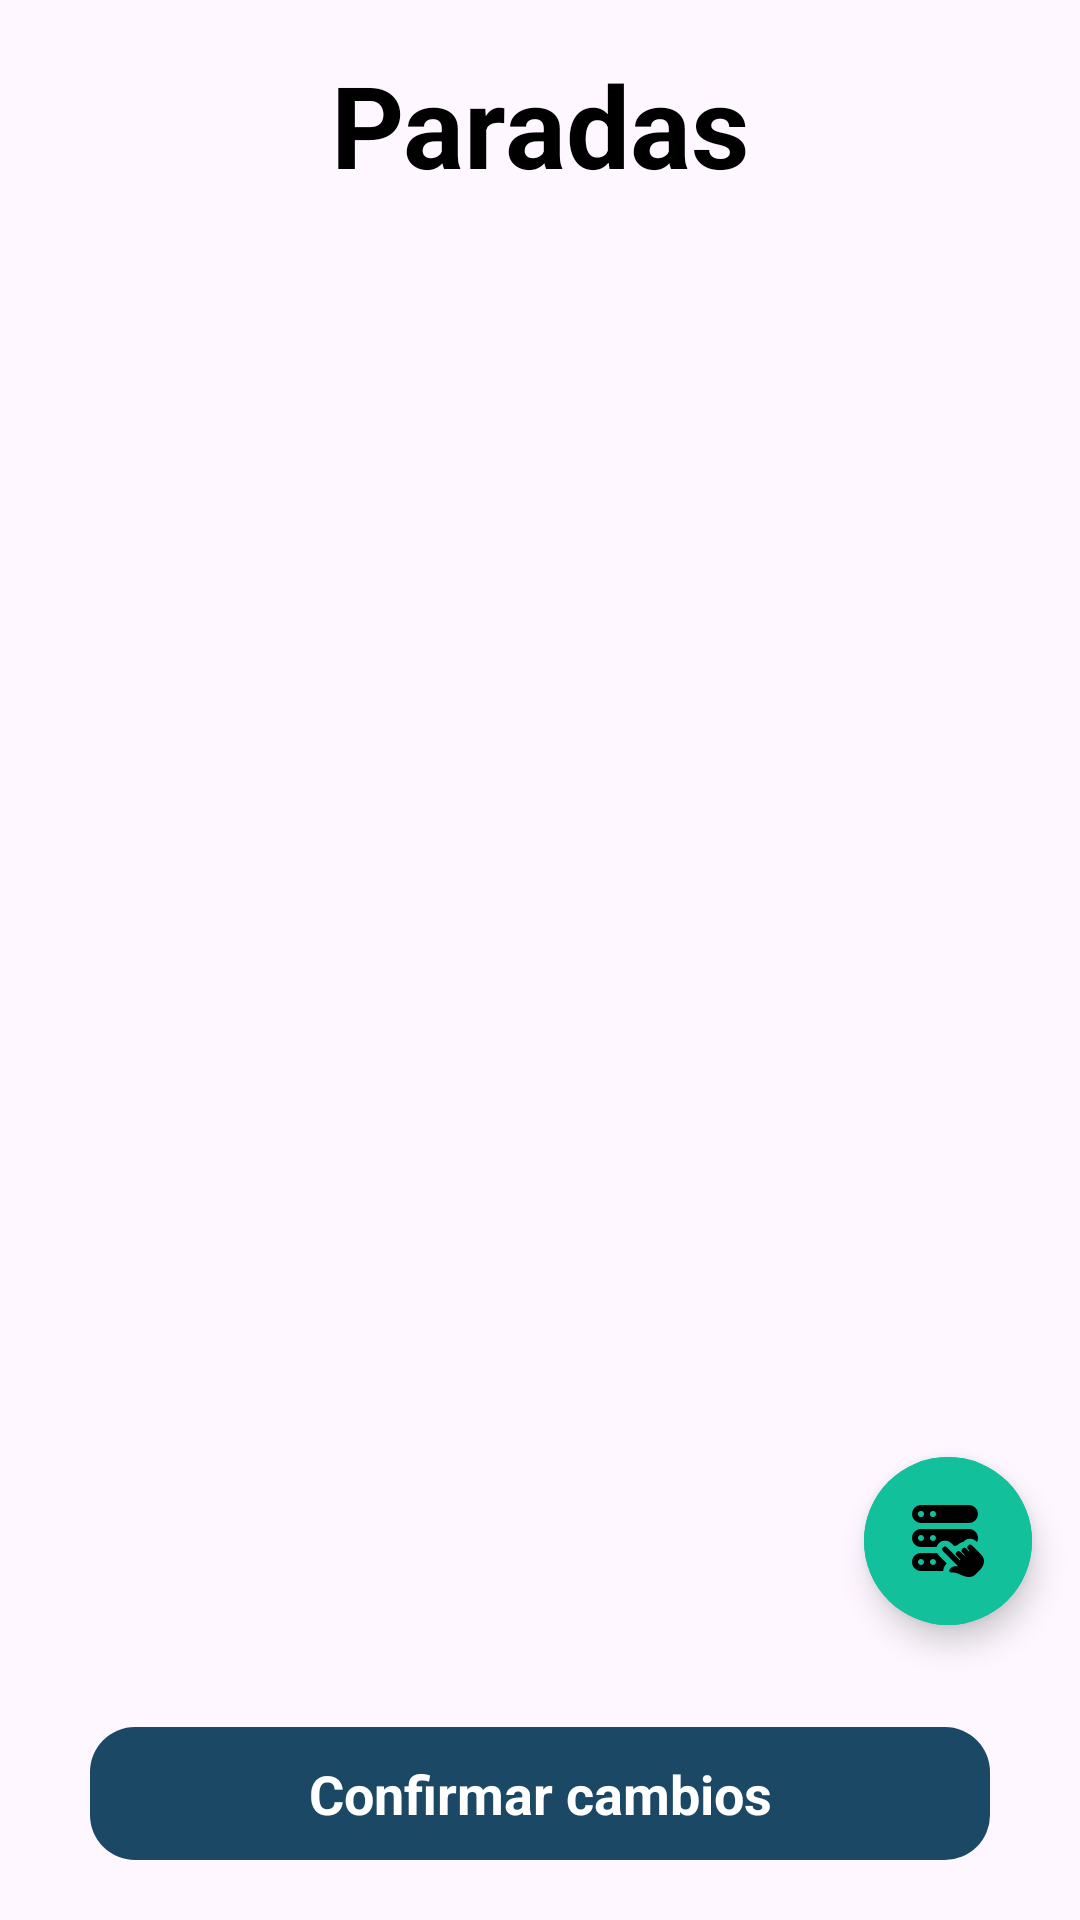

Point at icon controls on the screen. Image size 1080×1920, points as point (x, y).
Seleccionar parada ya existente: point (948, 1541)
